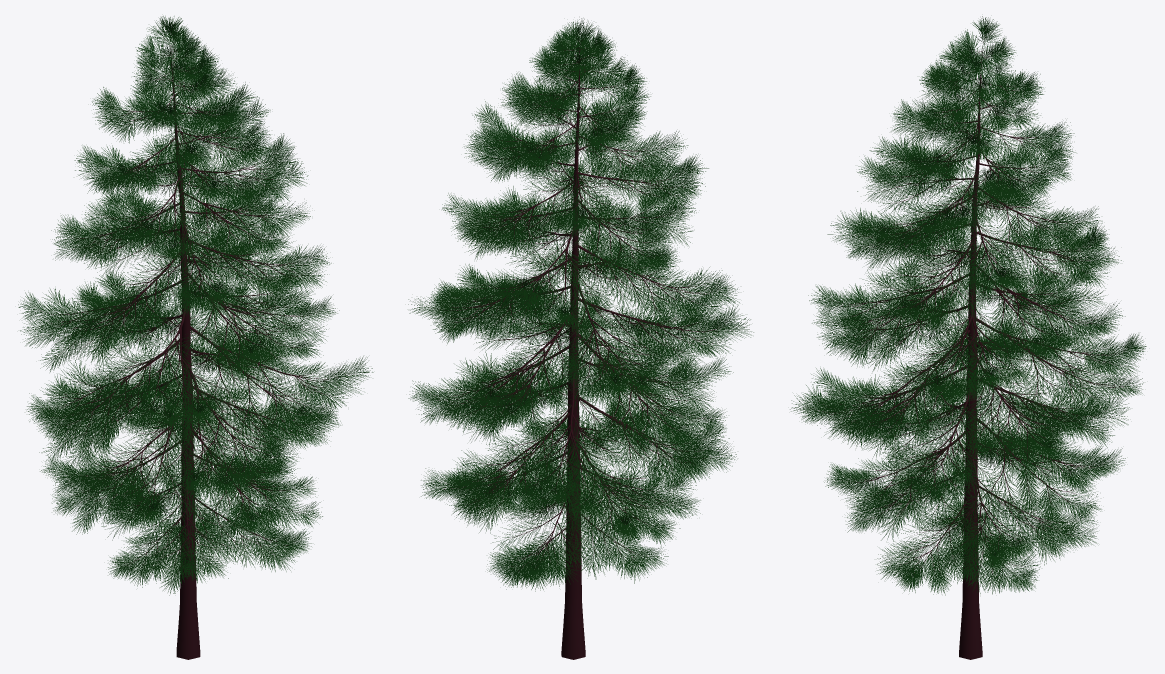
The model's file is pin-2.glb.
3 views of the same model, side by side, from view 1: azimuth 30°, elevation 25°; view 2: azimuth 150°, elevation 25°; view 3: azimuth 270°, elevation 25° (orthographic). The views are drawn at different scales.
Visible parts, largest first — view 1: leaves, tree; view 2: leaves, tree; view 3: leaves, tree.
Boxes of the visible parts, <box> form: leaves: <box>18,16,373,595</box>; tree: <box>34,40,349,659</box>; leaves: <box>408,18,753,591</box>; tree: <box>435,40,731,659</box>; leaves: <box>790,16,1146,595</box>; tree: <box>815,41,1125,659</box>.
Size of the model in its own units: 23.07 by 47.69 by 25.03.
